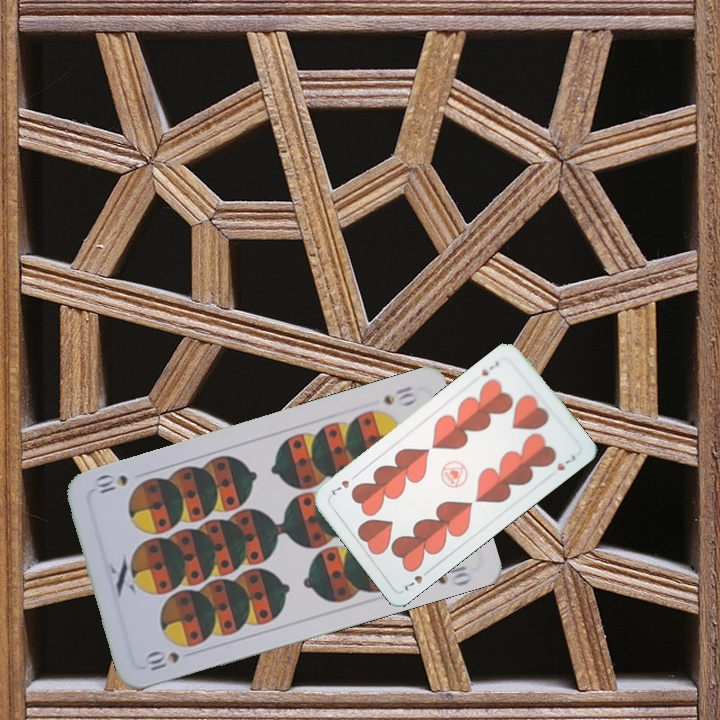H7: (400, 565, 434, 594), (477, 357, 502, 379)
S10: (141, 647, 183, 675), (378, 382, 420, 408)
